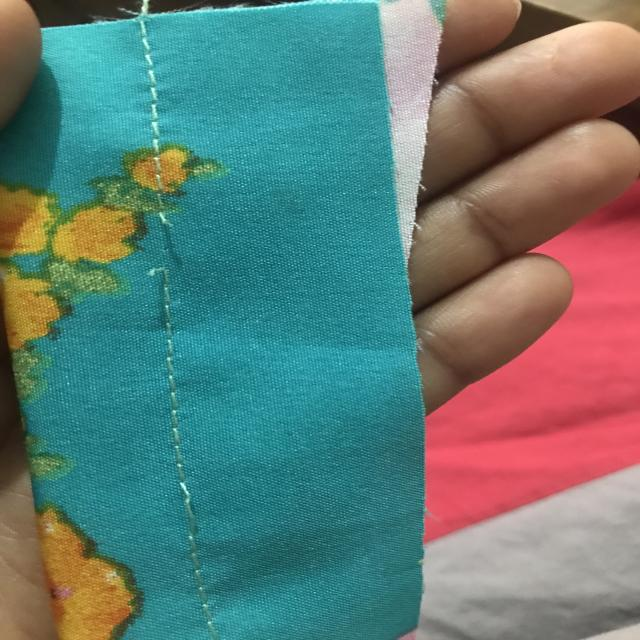broken: (146, 198, 200, 294)
skip: (164, 465, 221, 544)
